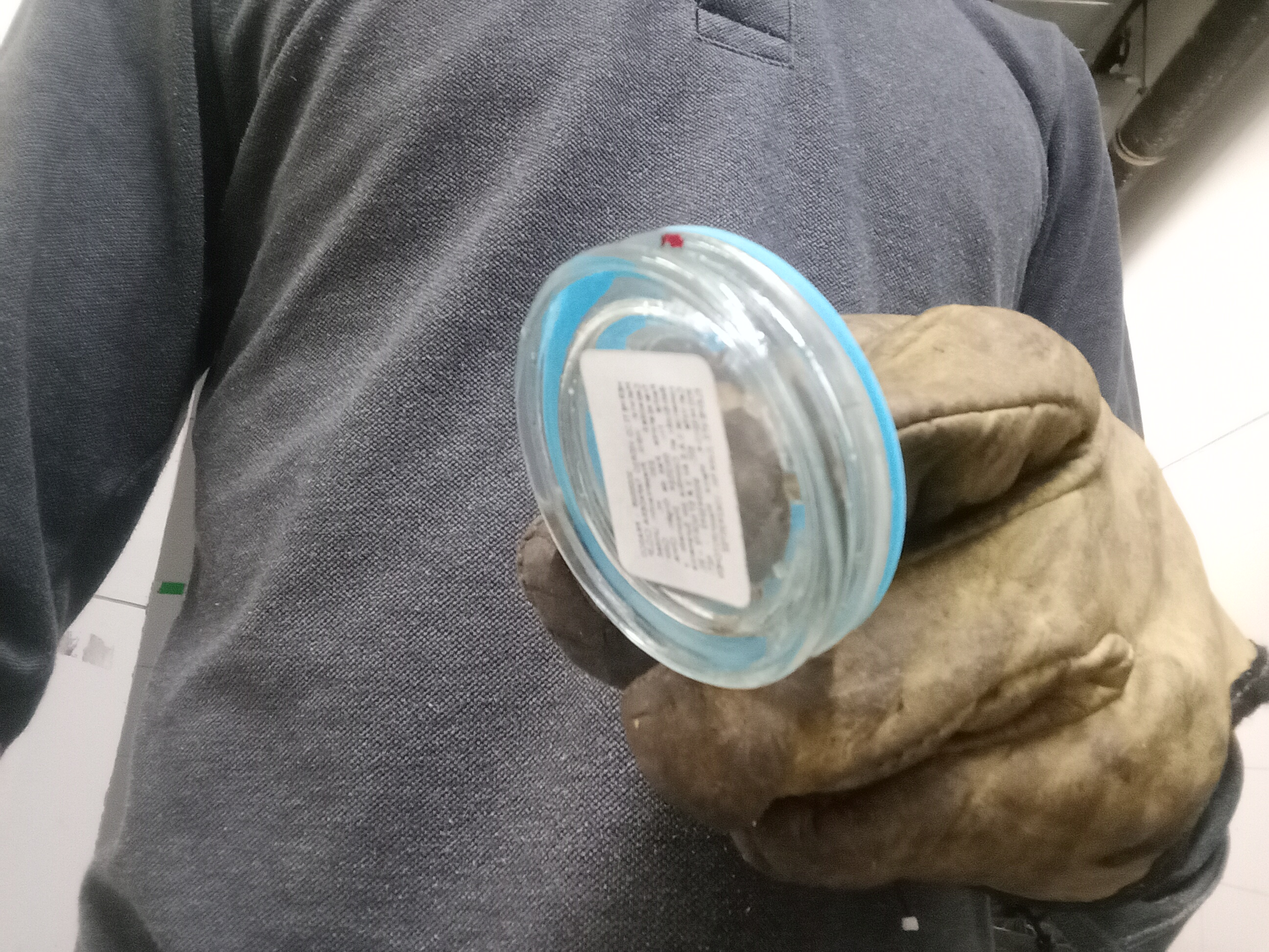Vidrio: (519, 223, 909, 693)
